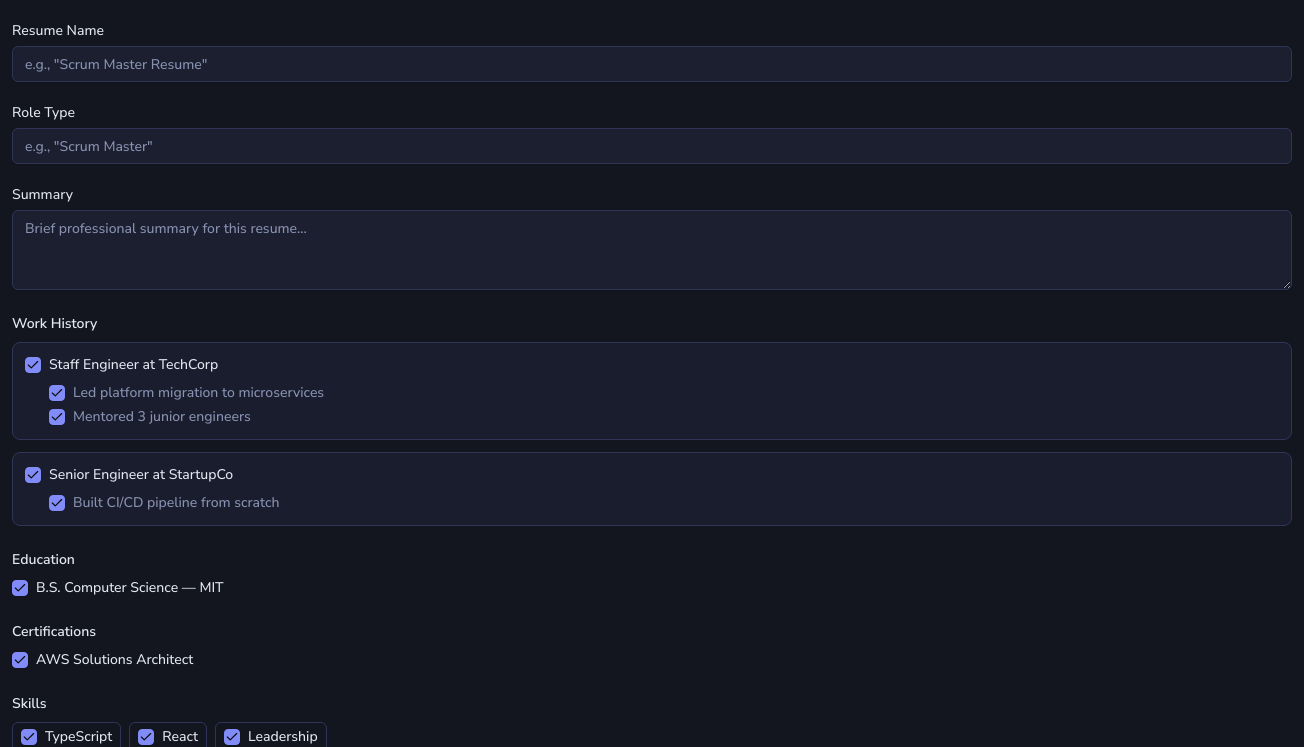
BaseResumeSetupStep › submission › shows friendly error for duplicate name
Step 1. Type "Scrum Master Resume" into the field labelled "Resume Name" → point(652, 64), box [12,46,1292,82]
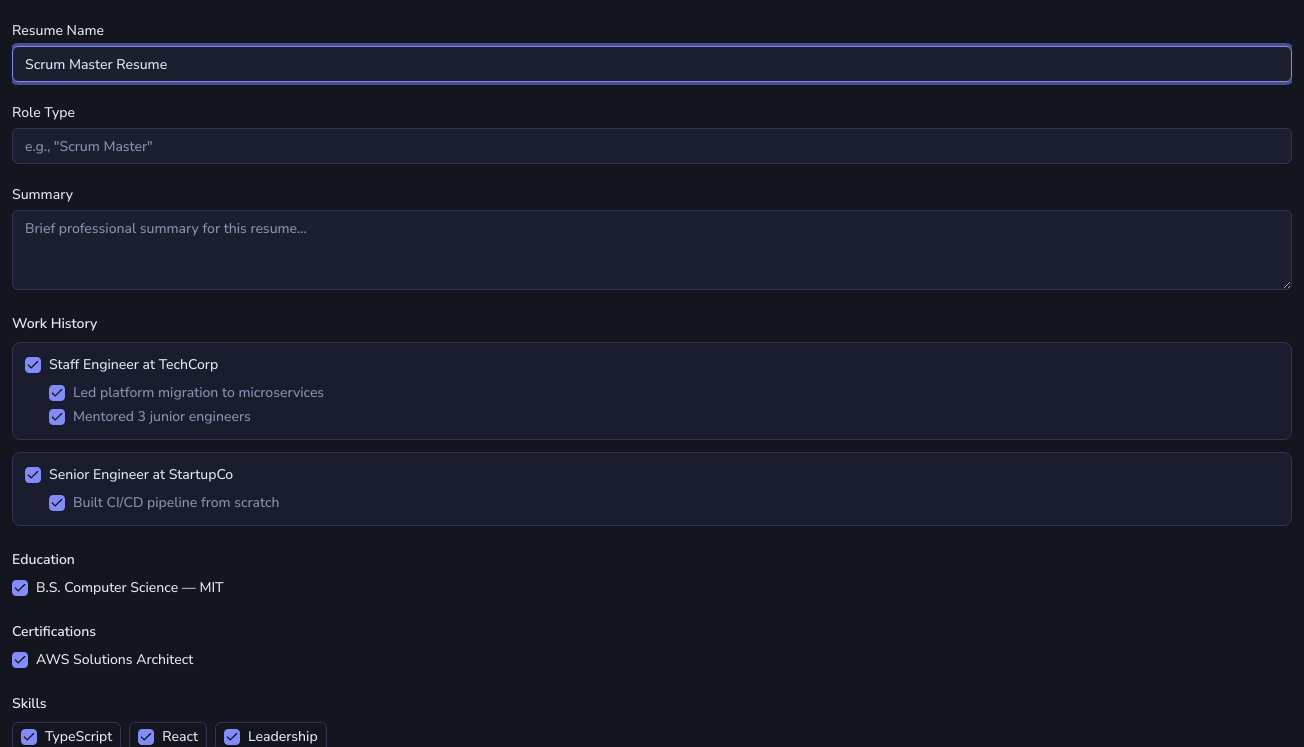
Step 2. Type "Scrum Master" into the field labelled "Role Type" → point(652, 146), box [12,128,1292,164]
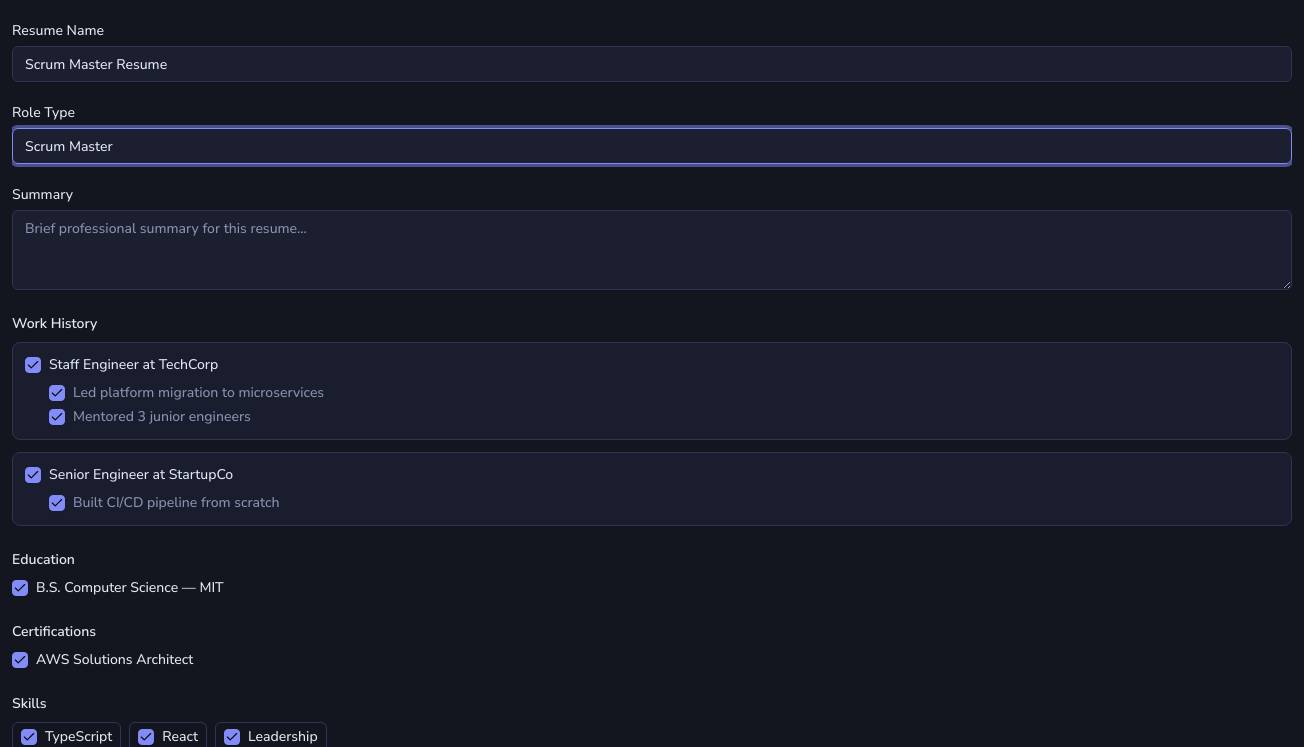
Step 3. Type "Experienced agile leader with 8 years of experience" into the text box labelled "Summary" → point(652, 250), box [12,210,1292,290]
(page scrolled)
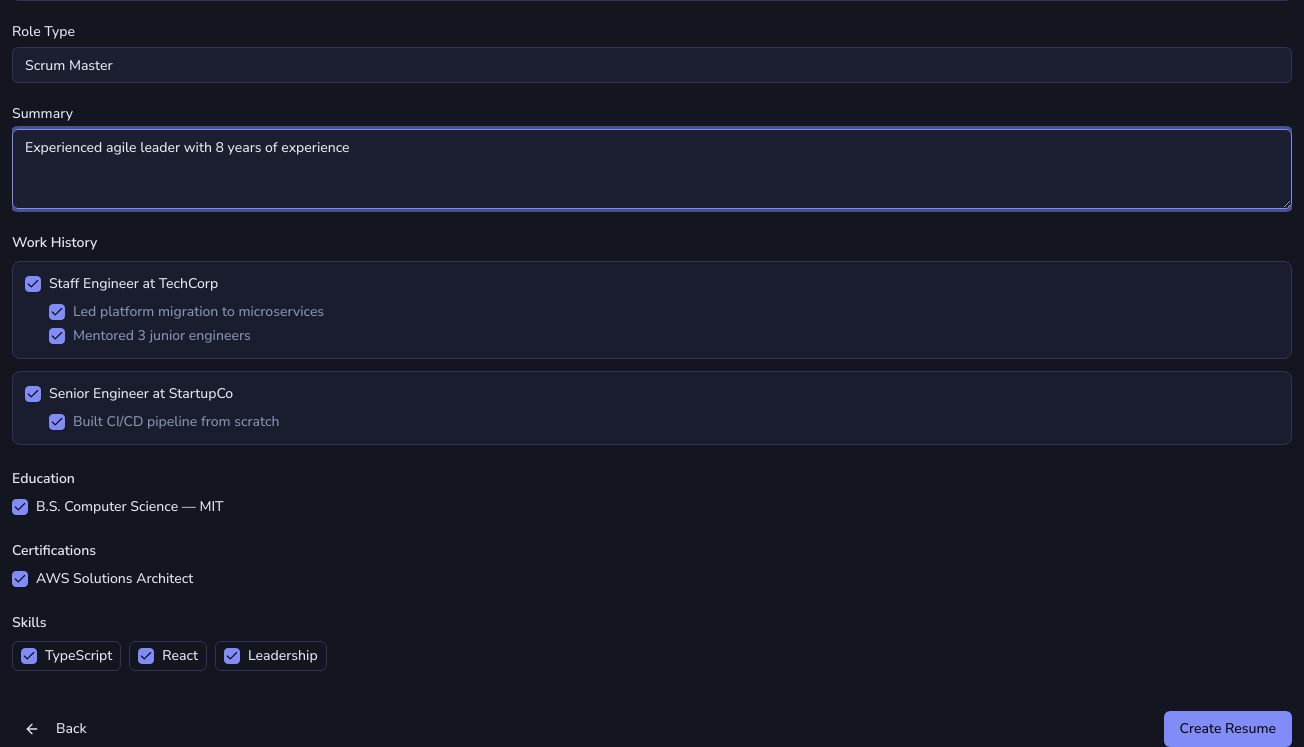
Step 4. Click the button with test id "submit-button" → point(1228, 729), box [1164,711,1292,746]
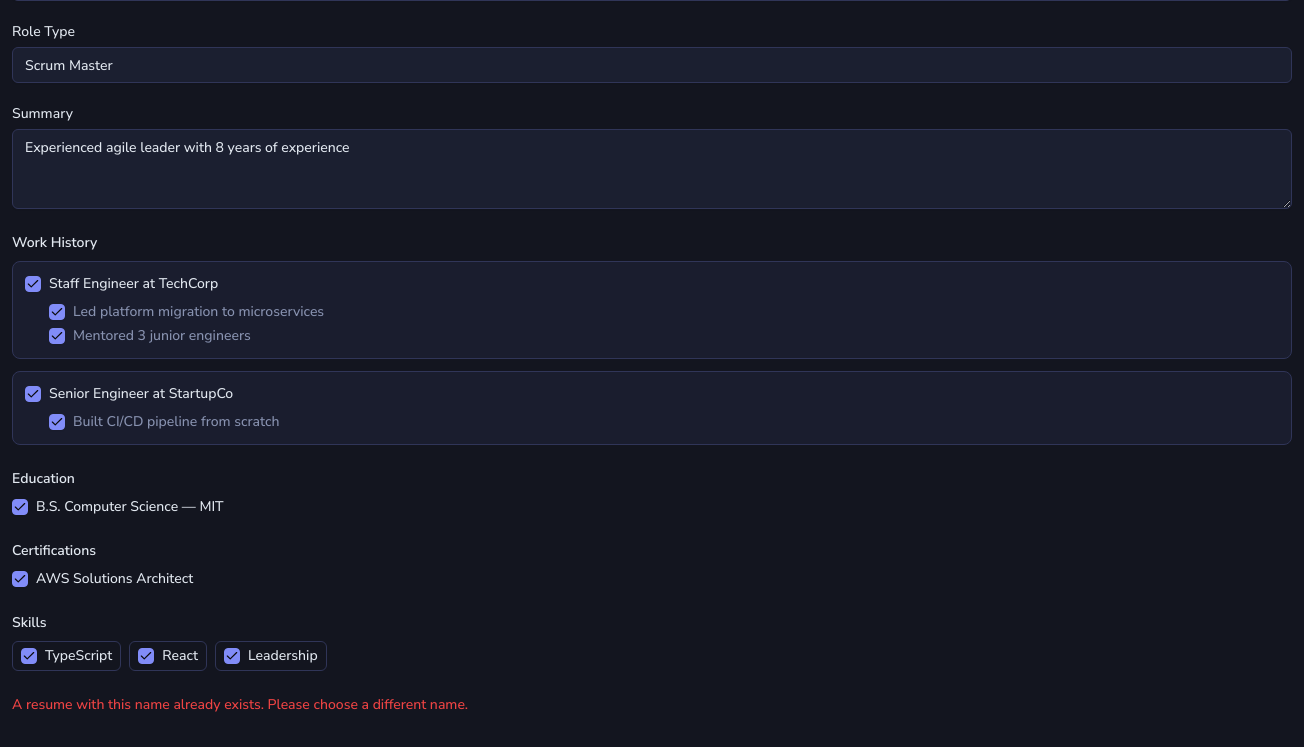
Expected: the message with test id "submit-error" shows "already exists", [12,695,468,714]
